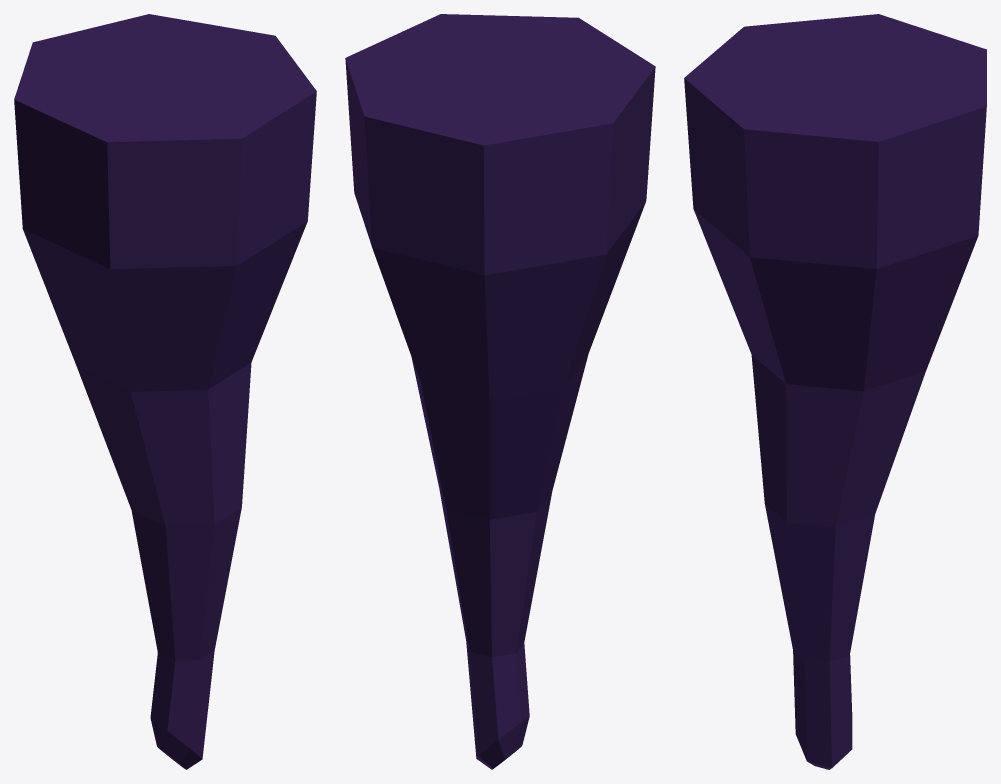
Rendered from stalactite_009_grp.fbx.
3 renders of one model, left to right at view 1: azimuth 30°, elevation 25°; view 2: azimuth 150°, elevation 25°; view 3: azimuth 270°, elevation 25°, orthographic. The views are drawn at different scales.
Visible parts, largest first — view 1: stalactite_009_grp; view 2: stalactite_009_grp; view 3: stalactite_009_grp.
Part boxes in pixels (box(x1,y1,x2,y2)): stalactite_009_grp: box(14, 14, 316, 769); stalactite_009_grp: box(345, 14, 655, 769); stalactite_009_grp: box(684, 14, 986, 769).
Bounding box in the file's own units: 200 × 500 × 200.
